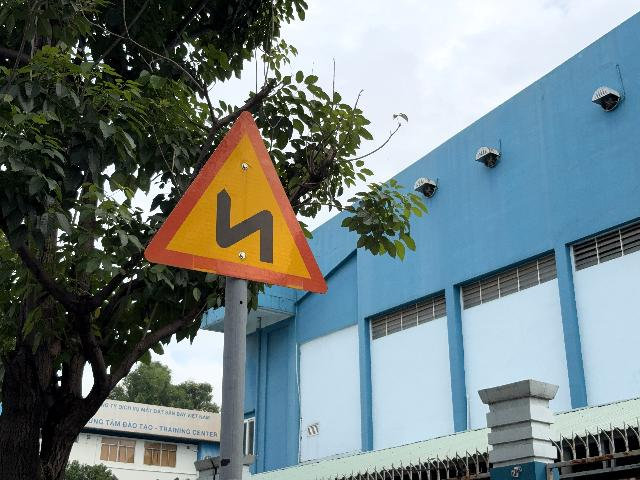nhieu-cho-ngoat-nguy-hiem-lien-tiep: (143, 110, 329, 295)
